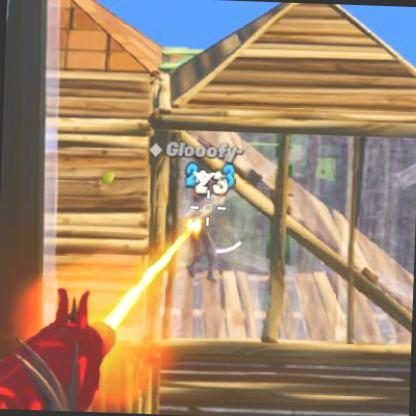person: (183, 186, 224, 283)
